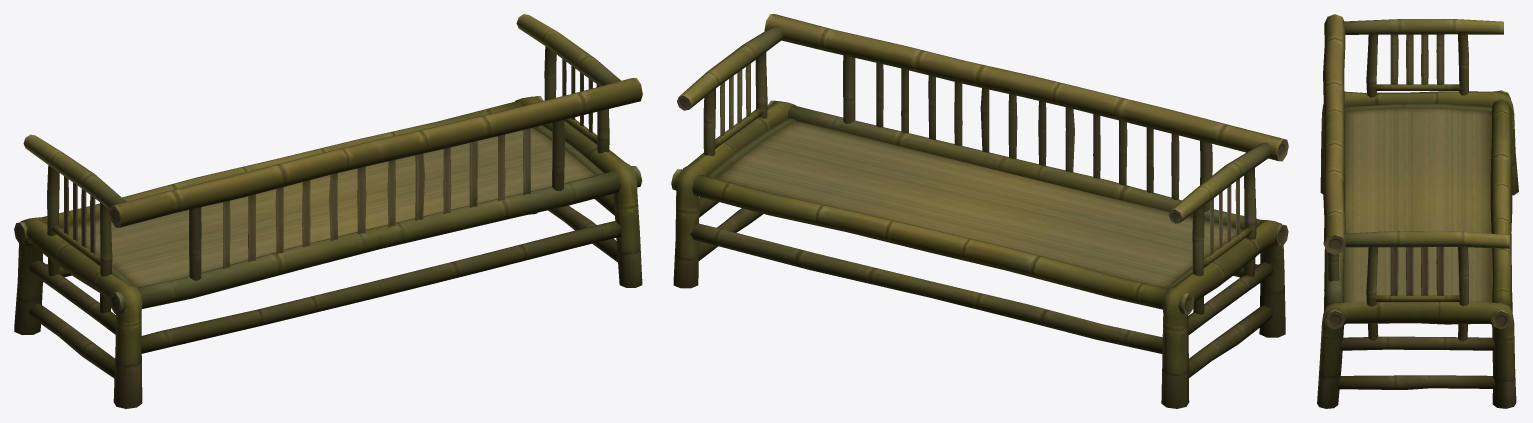
Rendered from furn_xn2018_bed_001.gltf.
3 renders of one model, left to right at view 1: azimuth 30°, elevation 25°; view 2: azimuth 150°, elevation 25°; view 3: azimuth 270°, elevation 25°, orthographic. The views are drawn at different scales.
Parts seen in each view (by area): view 1: xn2018_bed_001; view 2: xn2018_bed_001; view 3: xn2018_bed_001.
Boxes of the visible parts, x1,y1,x2,y2 form: xn2018_bed_001: [14, 14, 642, 408]; xn2018_bed_001: [671, 14, 1288, 408]; xn2018_bed_001: [1317, 14, 1518, 408].
Size of the model in its own units: 1.56 by 0.5727 by 0.5995.
Materials: 1 (1 with a texture image).
